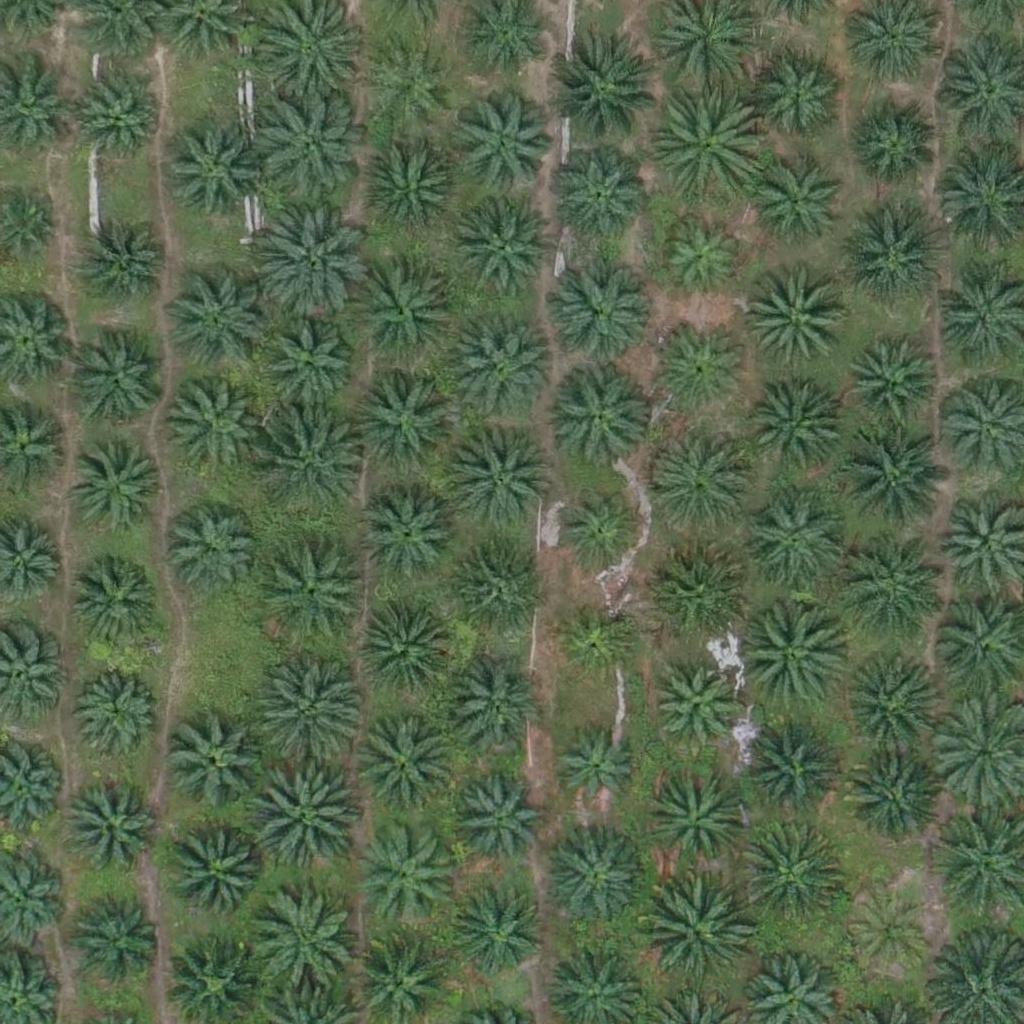Kelapa_Sawit: (253, 406, 366, 520), (257, 542, 370, 656), (546, 40, 659, 154), (252, 209, 365, 322), (250, 654, 363, 767), (350, 255, 463, 368), (728, 596, 841, 709), (638, 877, 751, 990), (247, 890, 360, 1003), (253, 761, 366, 874), (656, 92, 768, 206), (258, 96, 370, 209), (350, 365, 462, 478), (448, 308, 560, 421), (444, 423, 556, 536), (648, 423, 760, 536), (837, 423, 949, 536), (736, 819, 848, 932), (65, 440, 165, 541), (165, 711, 265, 812), (160, 504, 260, 605), (163, 379, 263, 480), (171, 271, 271, 372), (165, 121, 265, 222), (256, 318, 356, 419), (361, 599, 461, 700), (361, 482, 461, 583), (359, 137, 459, 238), (450, 202, 550, 303), (445, 546, 545, 647), (450, 655, 550, 756), (548, 366, 648, 467), (660, 542, 760, 643), (743, 277, 843, 378), (742, 489, 842, 590), (733, 718, 833, 819), (836, 649, 936, 750), (846, 549, 946, 650), (842, 204, 942, 305), (645, 770, 745, 871), (543, 830, 643, 931), (353, 820, 453, 921), (76, 217, 176, 317), (69, 333, 169, 433), (69, 554, 169, 654), (357, 713, 457, 813), (461, 95, 561, 195), (548, 143, 648, 243), (550, 264, 650, 364), (748, 375, 848, 475), (837, 746, 937, 846), (167, 821, 267, 921), (70, 886, 170, 986), (62, 777, 162, 877), (72, 664, 160, 752), (554, 594, 642, 682), (554, 481, 642, 569), (649, 662, 737, 750), (663, 214, 751, 302), (846, 889, 934, 977), (453, 888, 541, 976), (452, 779, 540, 867), (80, 72, 167, 161), (367, 43, 454, 132), (549, 726, 636, 814), (658, 325, 745, 413), (752, 53, 839, 141), (756, 160, 843, 248), (847, 334, 934, 422), (850, 95, 937, 183)
